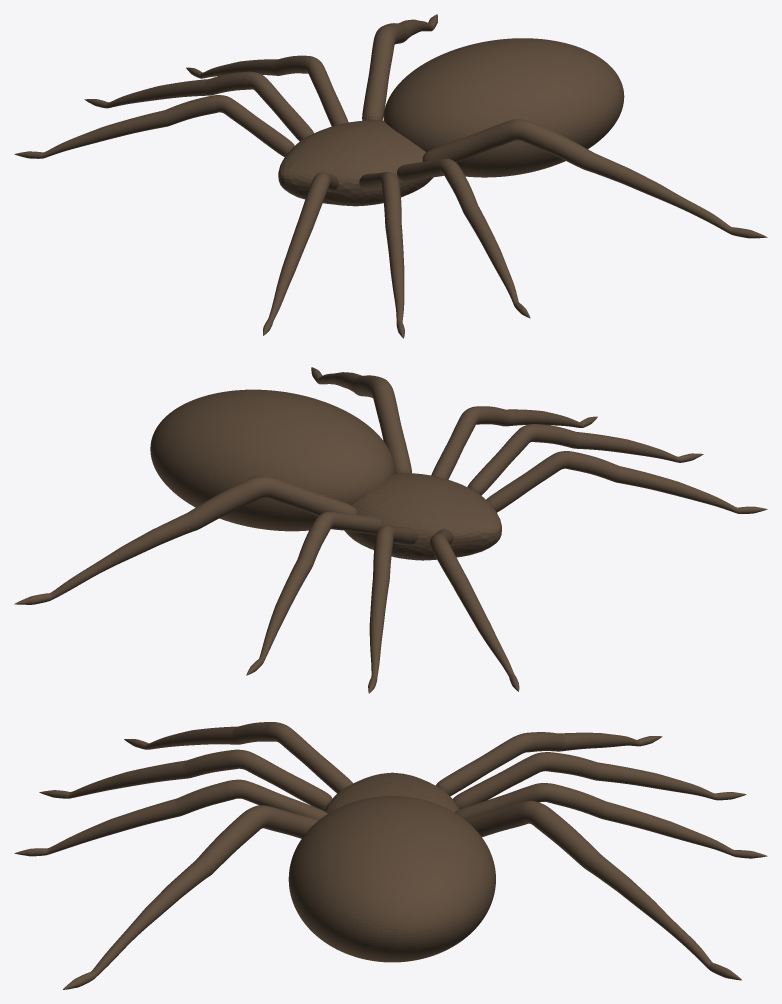
The model's file is Spider2.0.fbx.
The picture shows the model from 3 angles, top to bottom: view 1: azimuth 30°, elevation 25°; view 2: azimuth 150°, elevation 25°; view 3: azimuth 270°, elevation 25°; orthographic projection. The views are drawn at different scales.
Parts seen in each view (by area): view 1: Spider; view 2: Spider; view 3: Spider.
Boxes of the visible parts, x1,y1,x2,y2 form: Spider: (14,14,767,338); Spider: (14,367,767,693); Spider: (14,722,767,989).
Size of the model in its own units: 20.24 by 4.38 by 25.3.
Materials: 1 (1 with a texture image).
